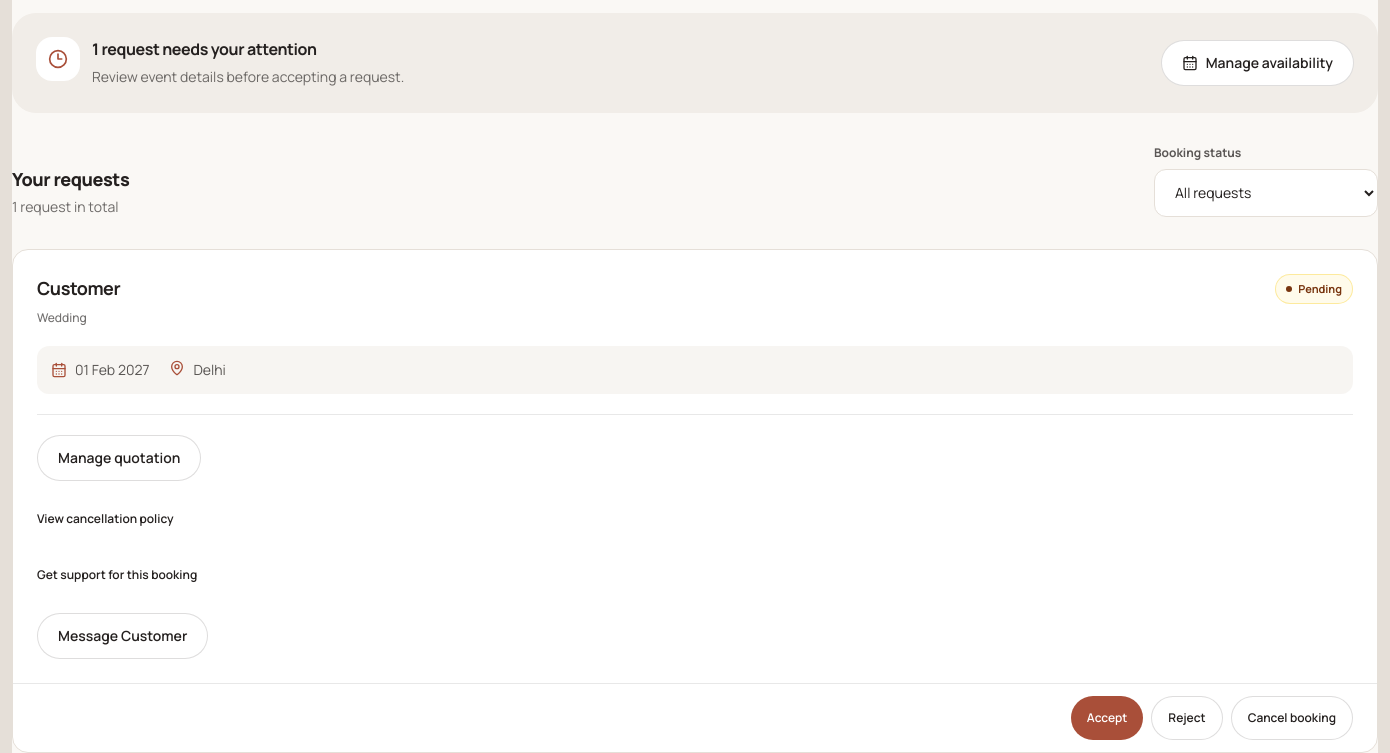
Test: vendor booking management › sends the Accept transition for a pending request
(page scrolled)
Click the button "Accept": point(1107, 718) [1071,696,1143,740]
(page scrolled)
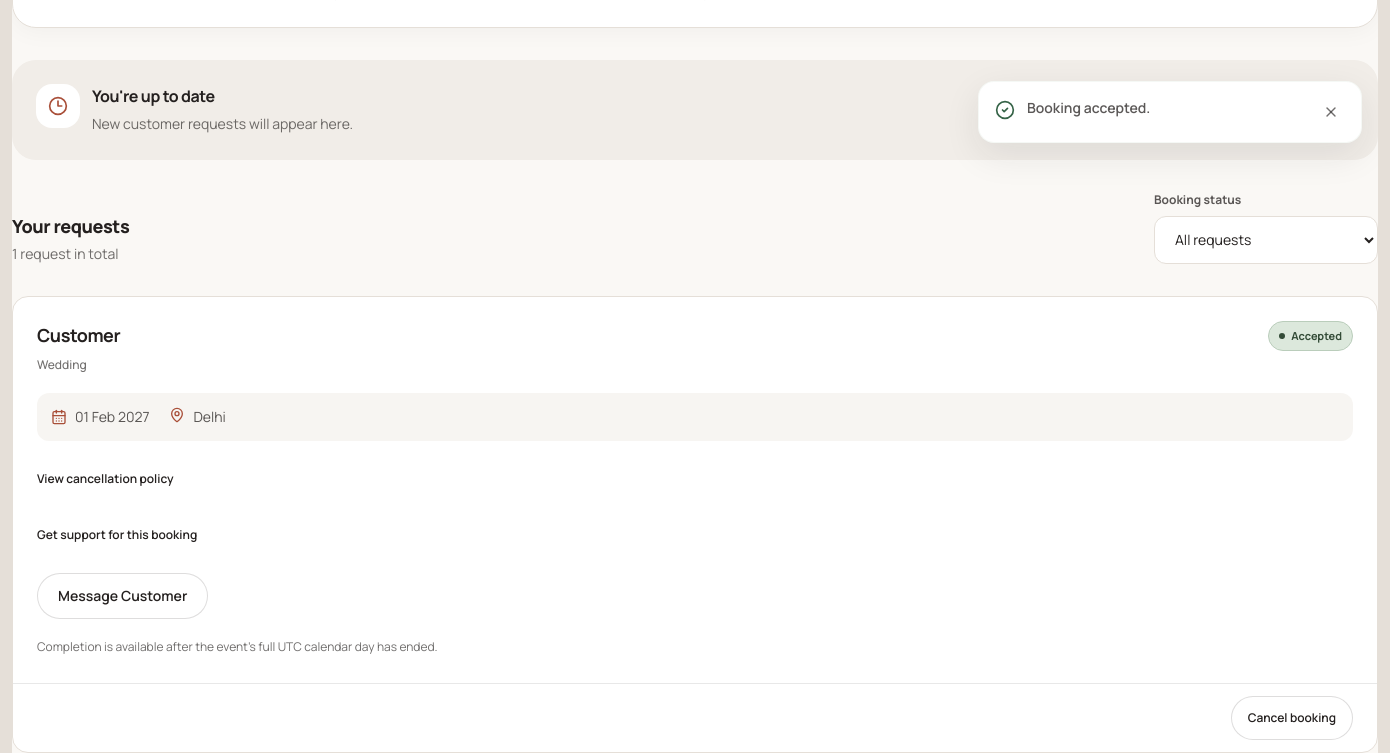
Expected: the text "accepted" is shown, [1268,320,1353,351]
